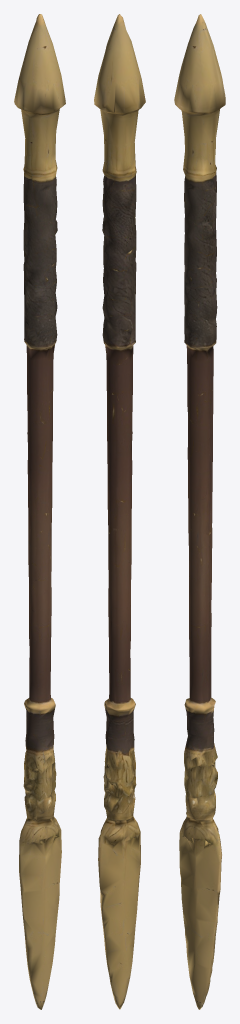
Rendered from 1594_spear.glb.
3 renders of one model, left to right at view 1: azimuth 30°, elevation 25°; view 2: azimuth 210°, elevation 25°; view 3: azimuth 330°, elevation 25°, orthographic.
Parts seen in each view (by area): view 1: Model; view 2: Model; view 3: Model.
Part boxes in pixels (x1=…): Model: x1=14, y1=14, x2=65, y2=1009; Model: x1=94, y1=14, x2=145, y2=1009; Model: x1=174, y1=14, x2=225, y2=1009.
Size of the model in its own units: 0.0468 by 1 by 0.0467.
1 material, 1 textured.
